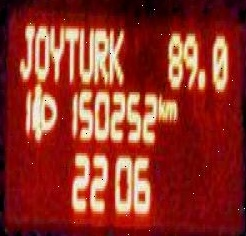-: (196, 64, 206, 89)
0: (113, 150, 131, 213), (211, 31, 228, 92), (93, 87, 108, 138)
1: (70, 86, 77, 140), (24, 84, 30, 137)
2: (90, 150, 107, 211), (71, 150, 87, 208), (141, 89, 156, 142), (110, 89, 125, 140)
5: (77, 84, 92, 140), (125, 89, 139, 140)
6: (132, 153, 151, 214)
8: (167, 28, 182, 89)
9: (182, 28, 196, 89)
X: (77, 23, 92, 81), (48, 20, 62, 79), (33, 20, 47, 79), (18, 20, 32, 79), (92, 26, 106, 82), (107, 28, 121, 81), (65, 20, 75, 79), (165, 94, 175, 120), (157, 87, 163, 120)
